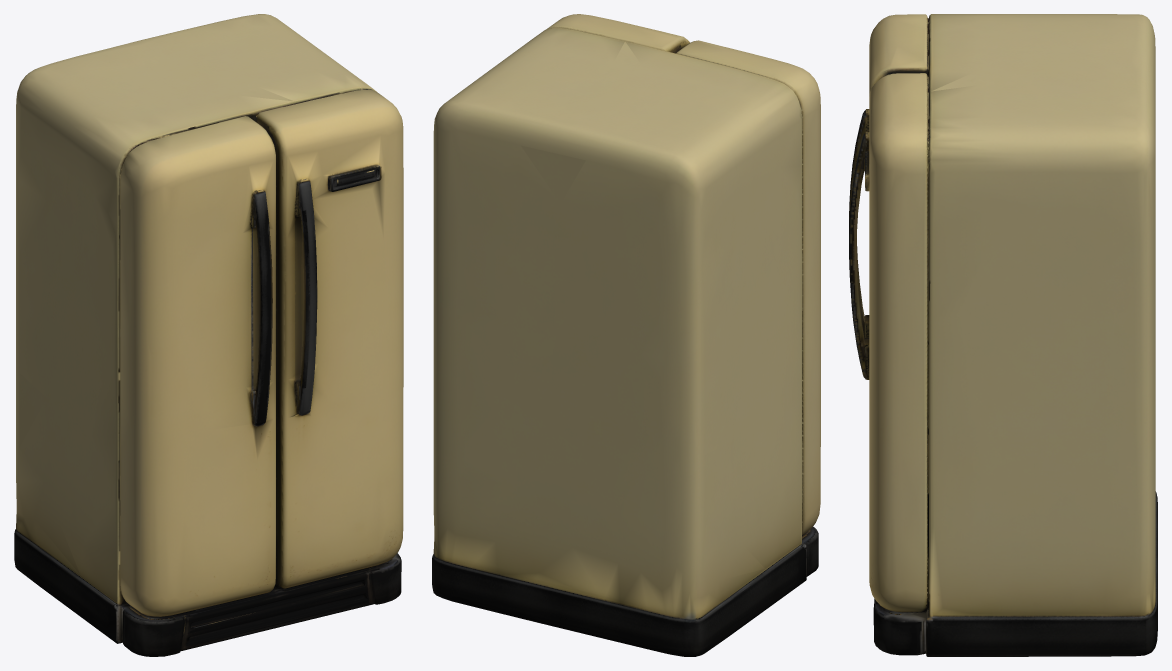
Rendered from fridge_yellow_double.glb.
3 renders of one model, left to right at view 1: azimuth 30°, elevation 25°; view 2: azimuth 150°, elevation 25°; view 3: azimuth 270°, elevation 25°, orthographic. The views are drawn at different scales.
Parts seen in each view (by area): view 1: fridge_yellow_double; view 2: fridge_yellow_double; view 3: fridge_yellow_double.
Boxes of the visible parts, x1,y1,x2,y2 form: fridge_yellow_double: (14, 14, 403, 656); fridge_yellow_double: (432, 14, 820, 656); fridge_yellow_double: (849, 14, 1157, 656).
Size of the model in its own units: 1 by 1.75 by 0.9442.
Materials: 1 (1 with a texture image).
